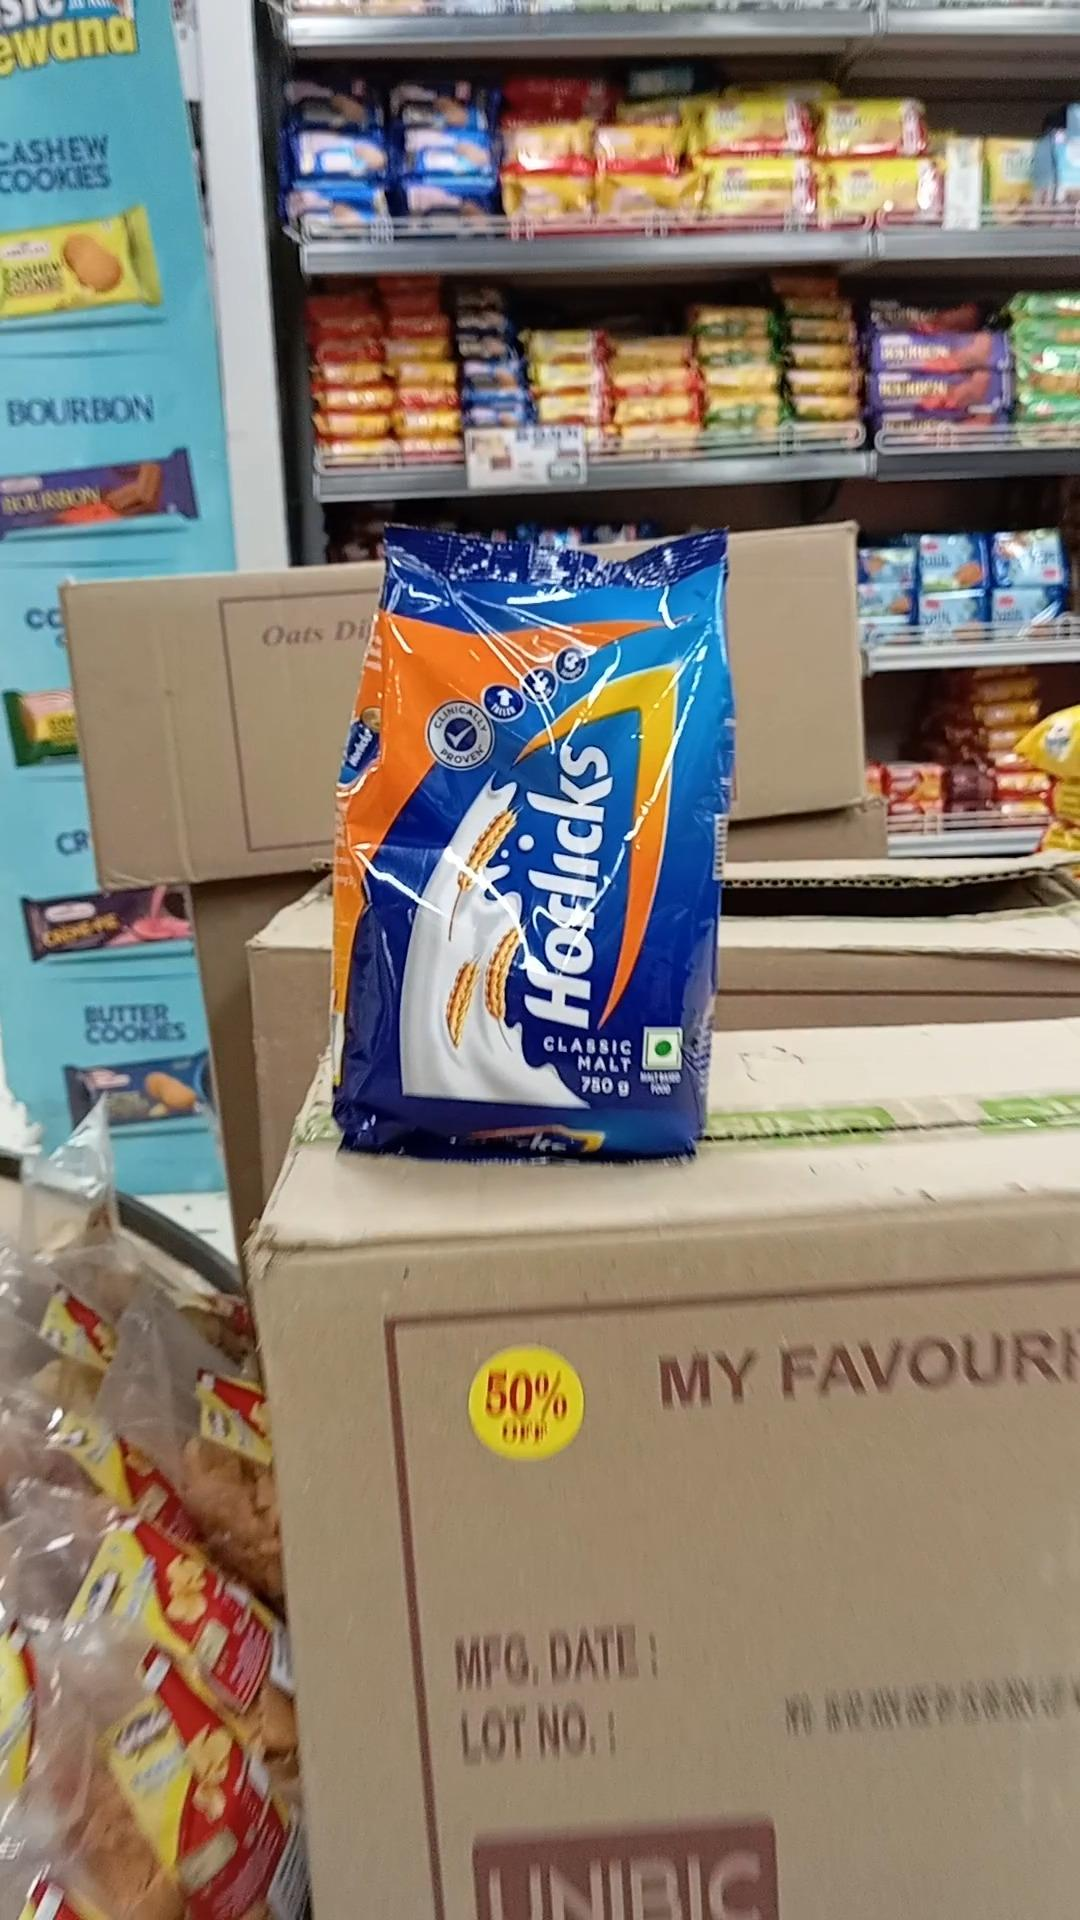HORLICK_CLASSIC_MALT_750_G_POUCH: (356, 514, 731, 1156)
